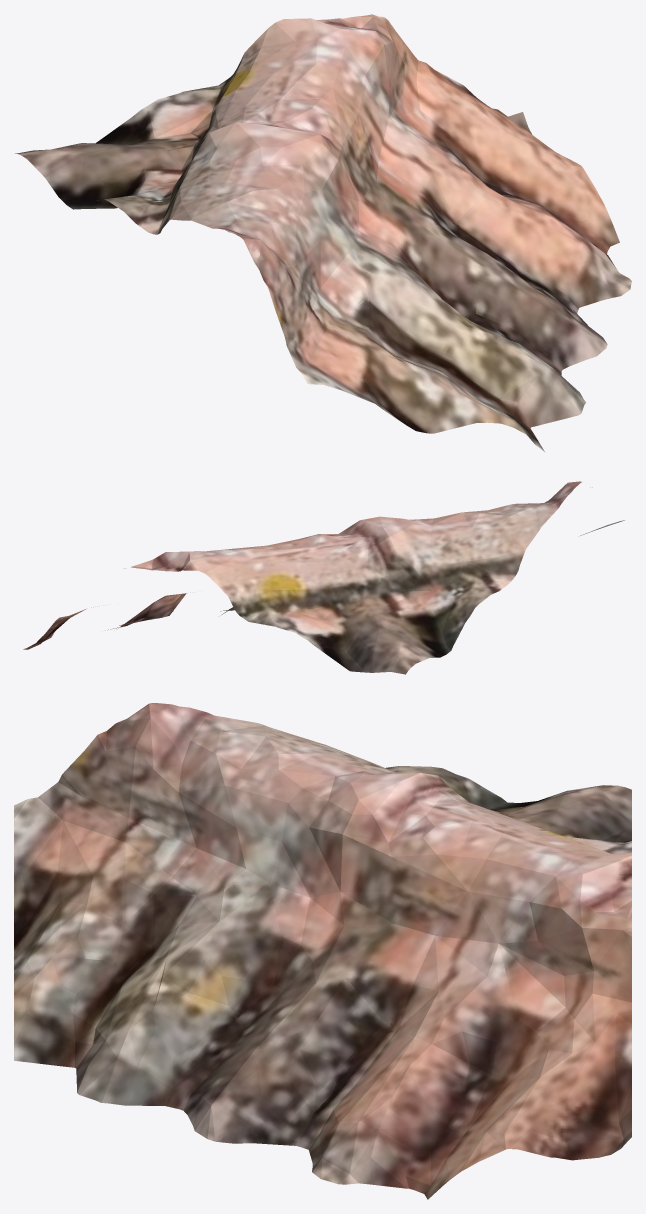
The picture shows the model from 3 angles, top to bottom: view 1: azimuth 30°, elevation 25°; view 2: azimuth 150°, elevation 25°; view 3: azimuth 270°, elevation 25°; orthographic projection. The views are drawn at different scales.
Bounding box in the file's own units: 0.8374 × 0.3524 × 0.8374.
3 materials, 3 textured.
